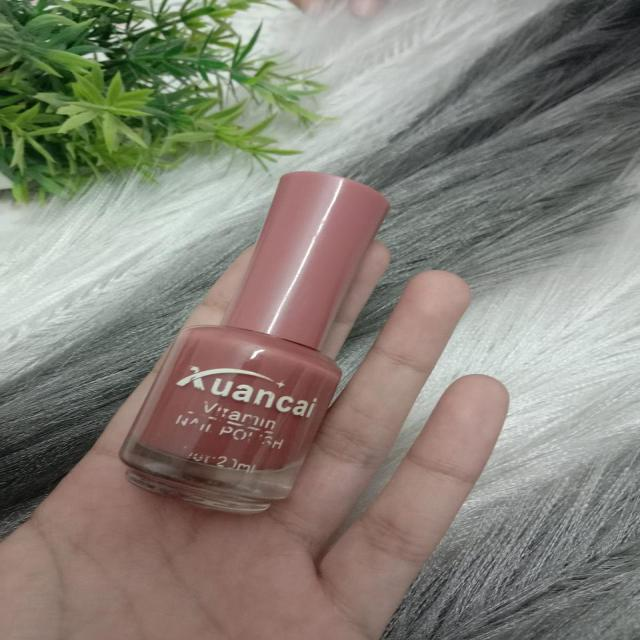nail polish: (110, 150, 426, 533)
